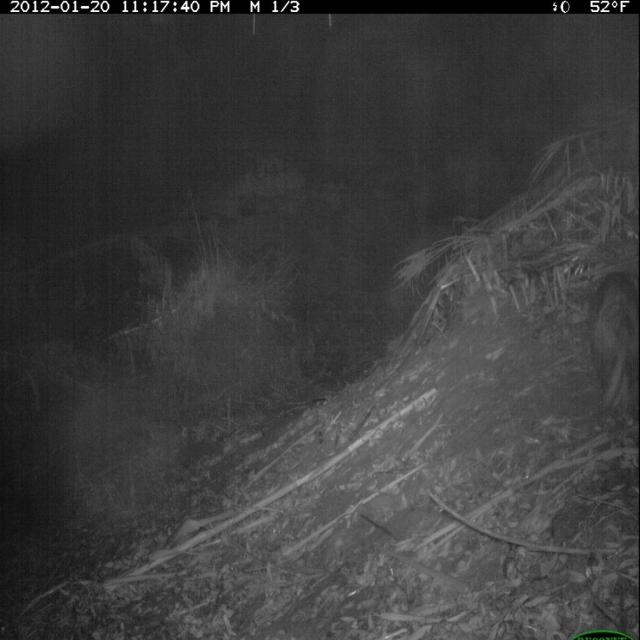opossum: (579, 262, 638, 443)
